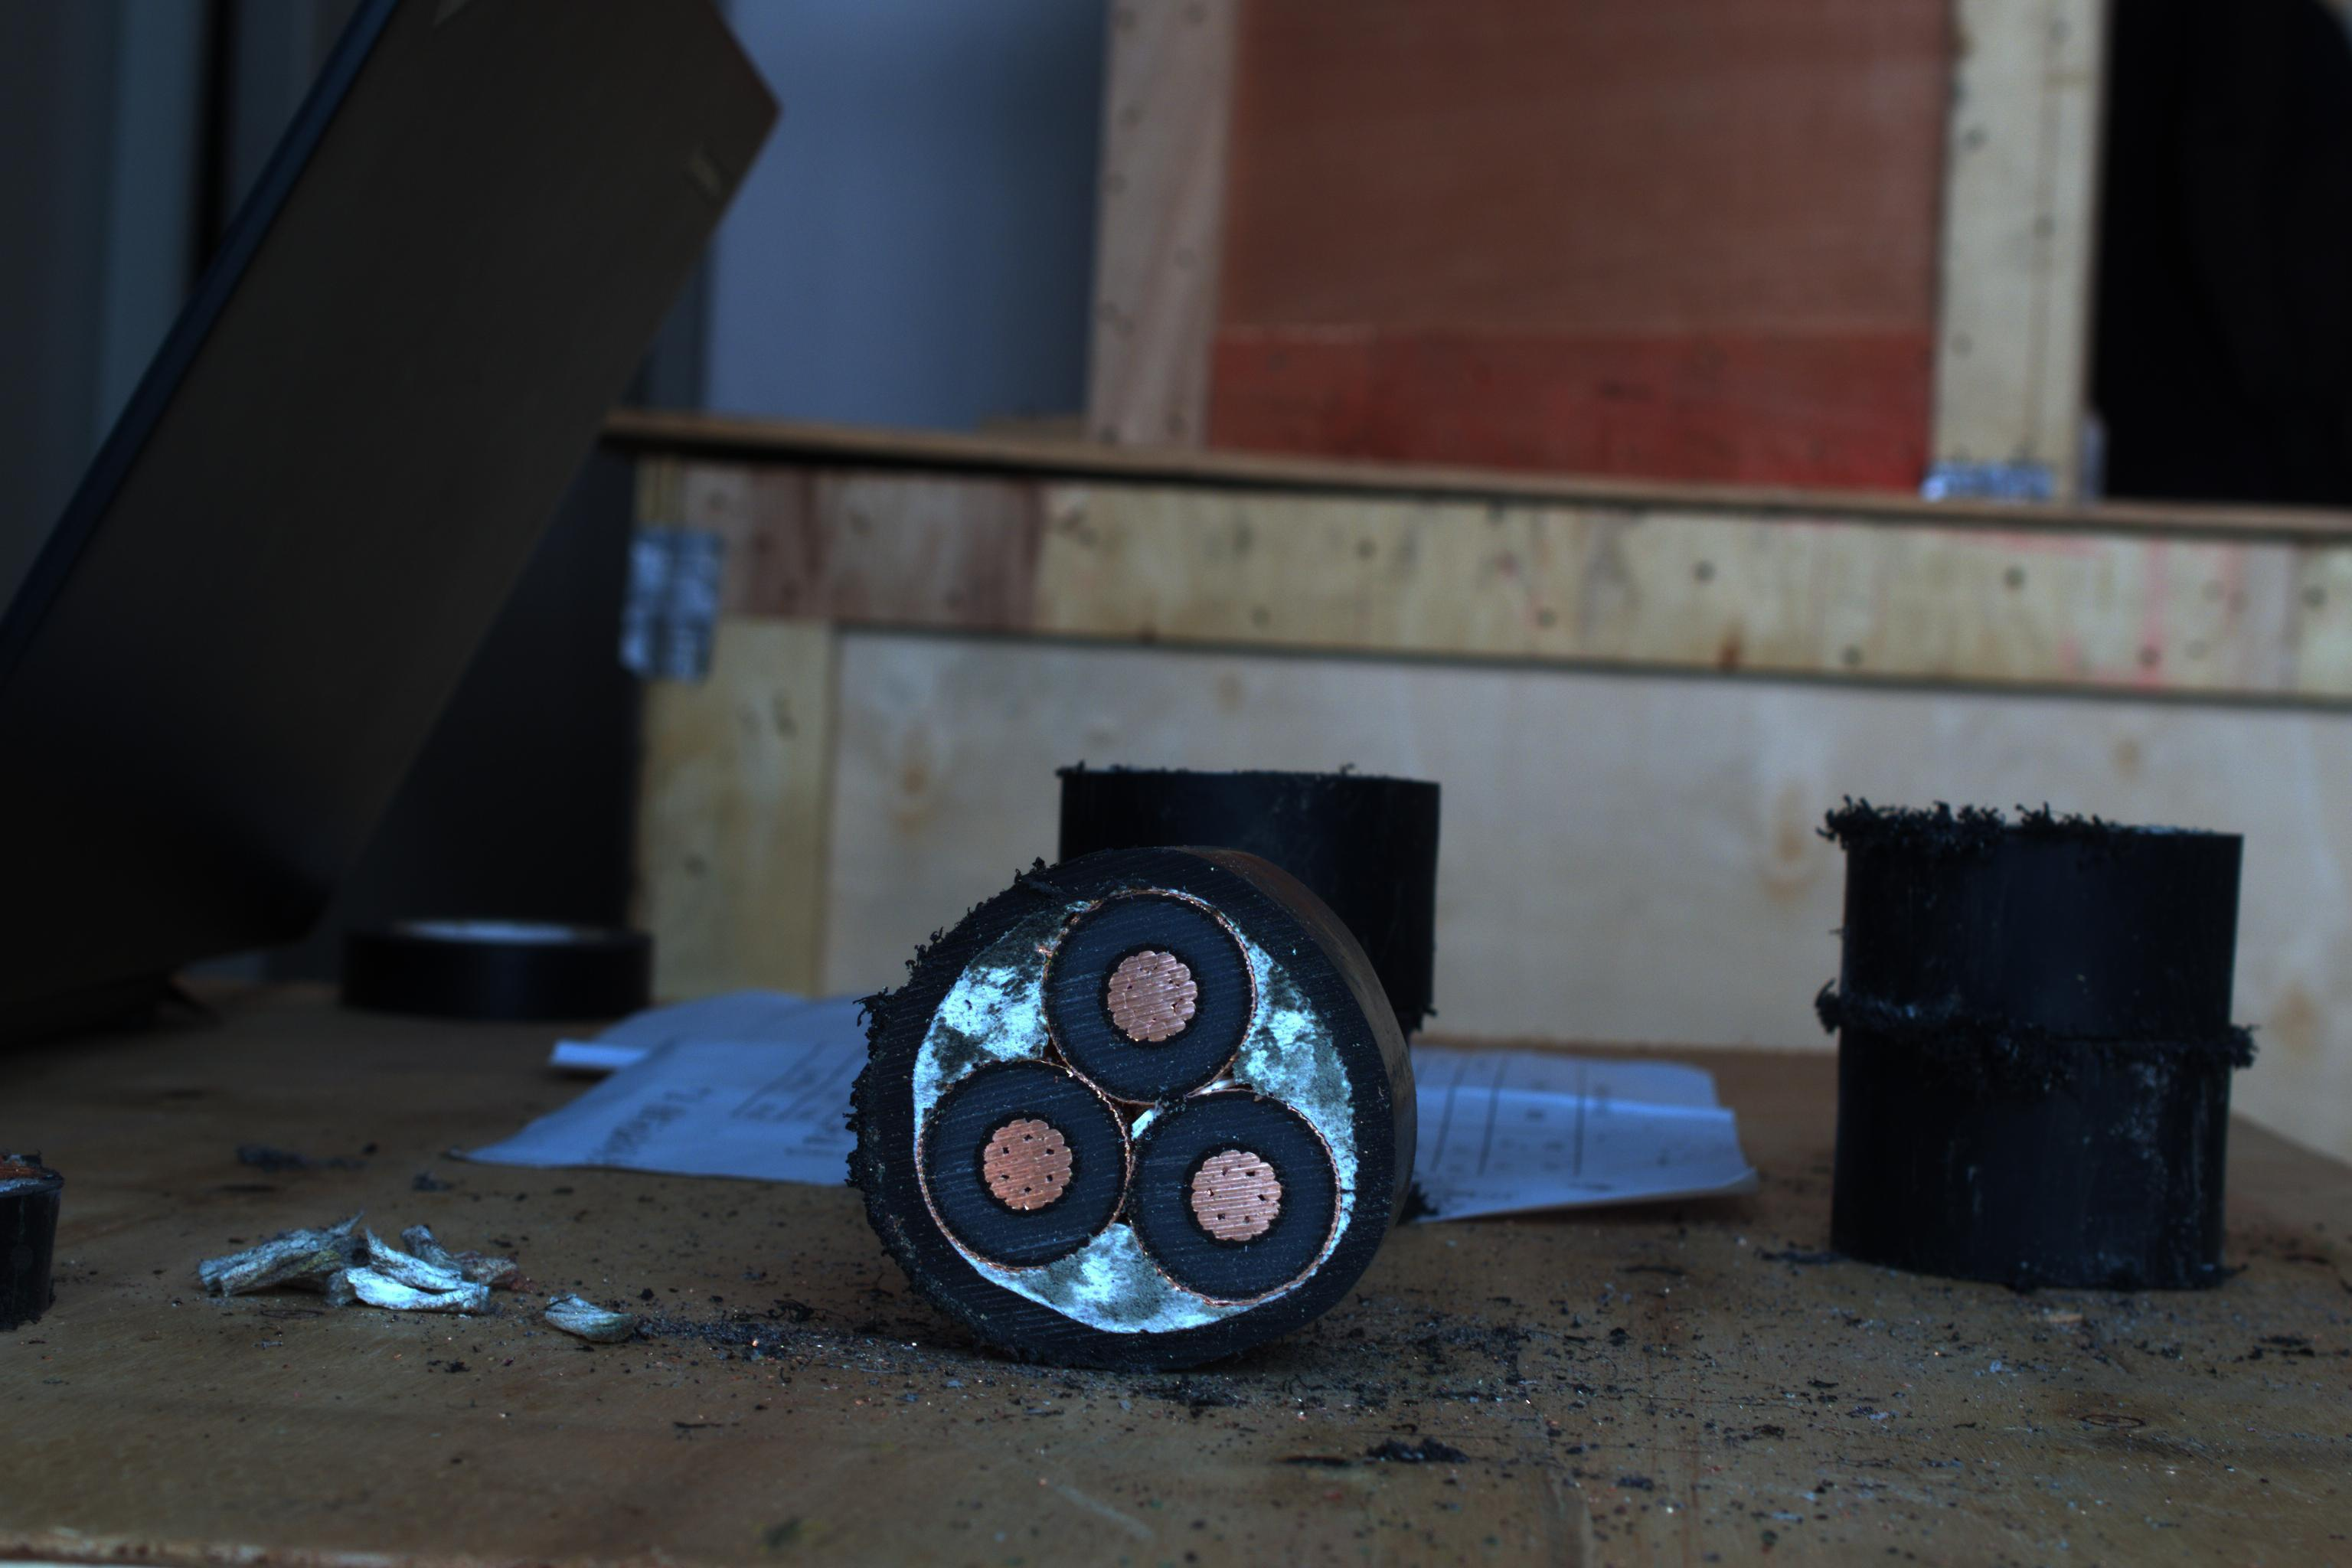YJV_8.7_10kV_3x70: (871, 861, 1386, 1372)
